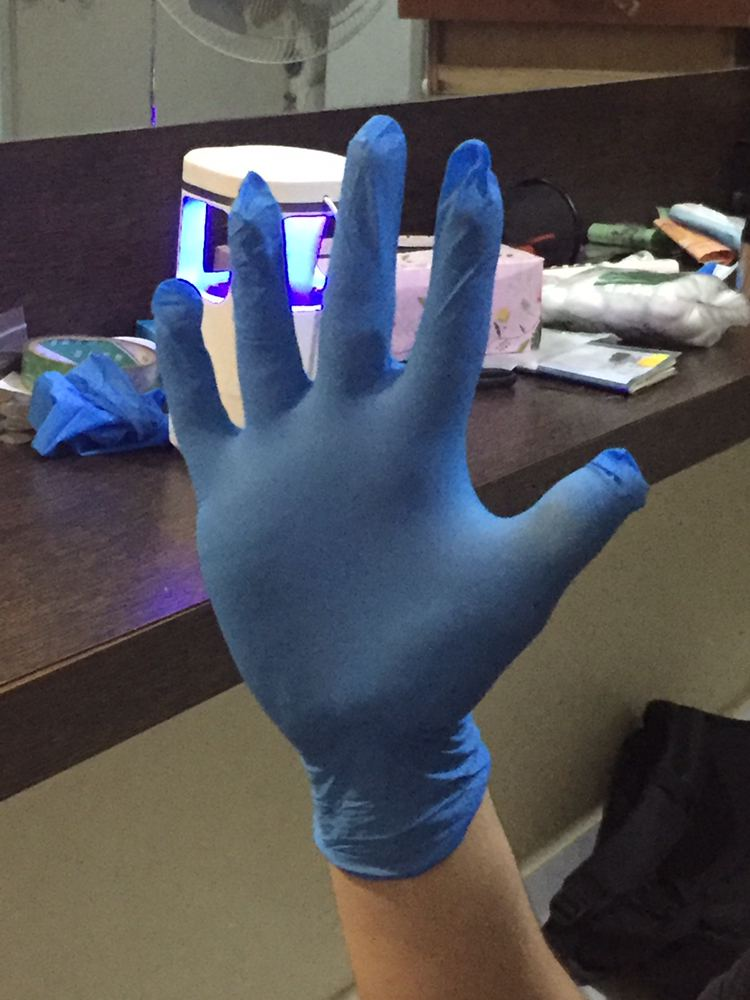glove: (166, 114, 673, 746)
